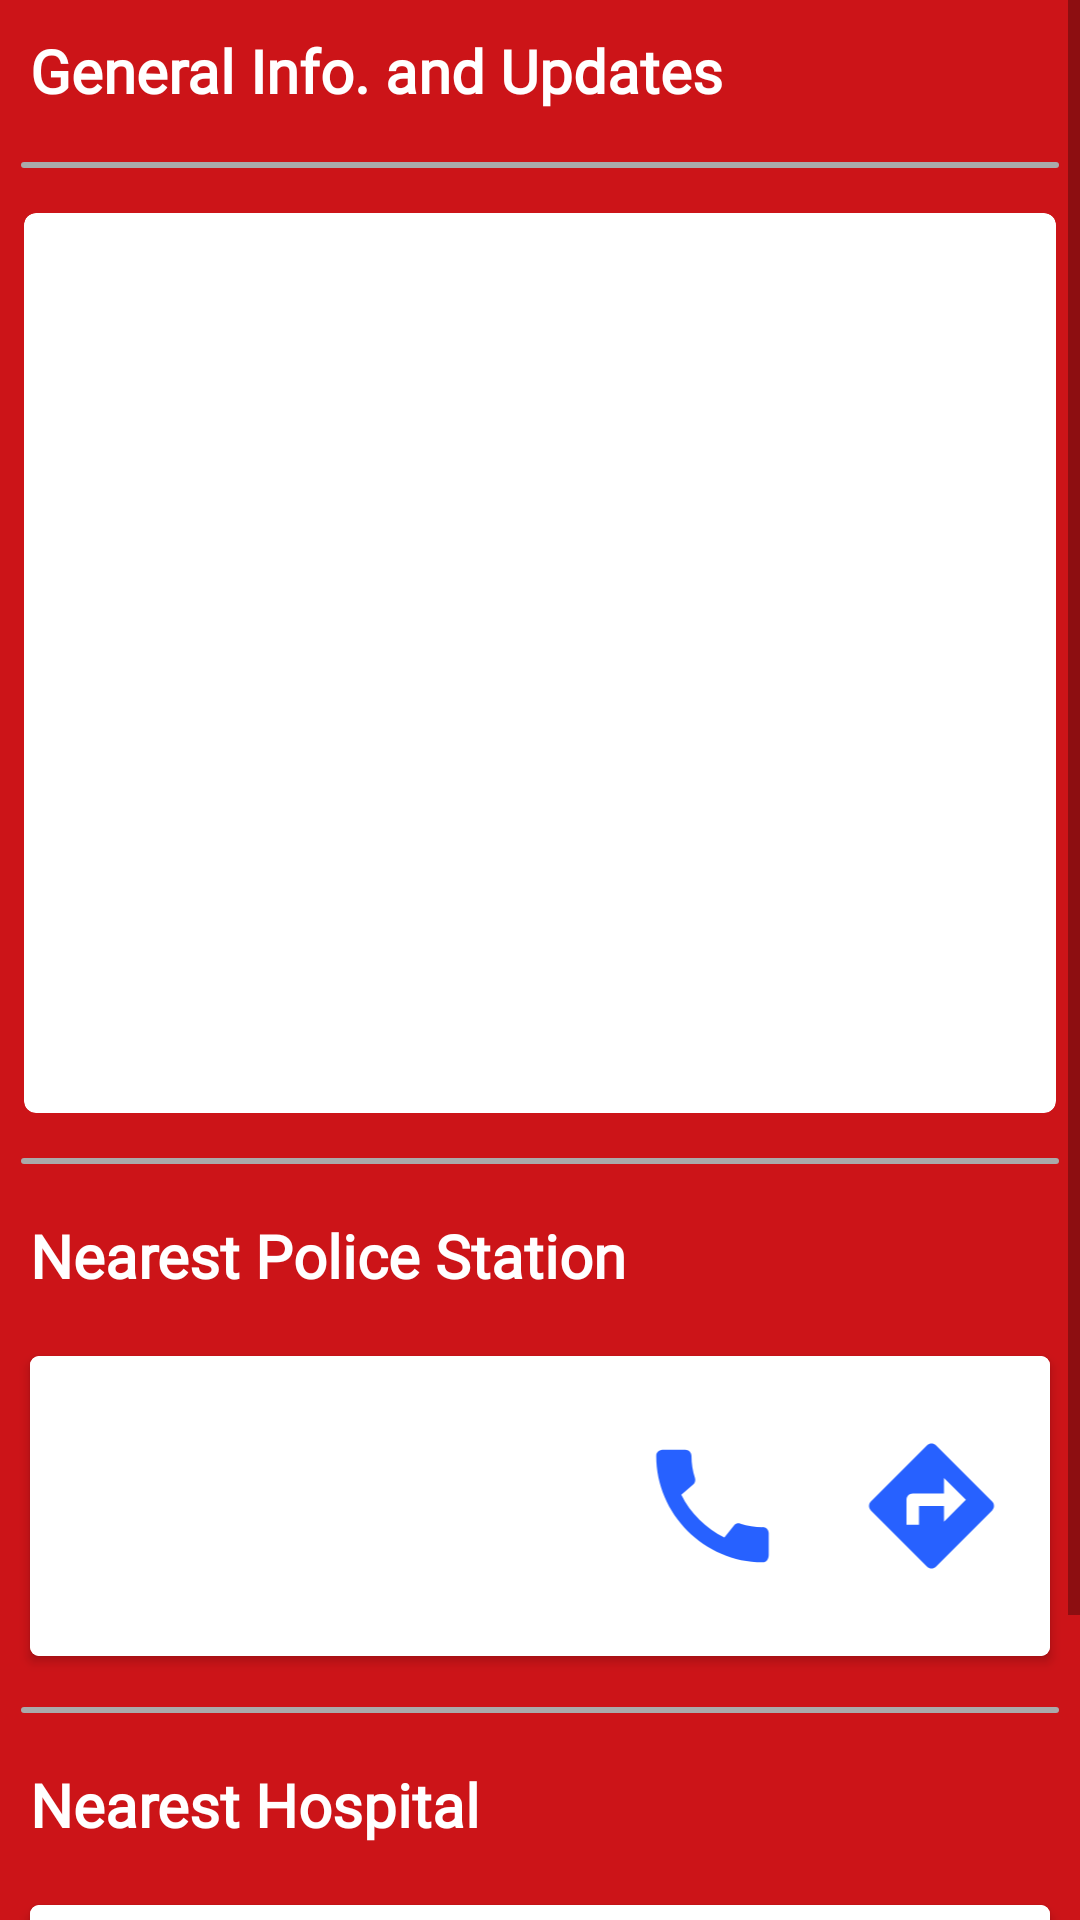

Named icons in this screenshot (1080px×1920px) and their bounding boxes, (x1, y1, x2, y2):
call: (655, 1449, 770, 1563)
directions: (868, 1443, 995, 1569)
